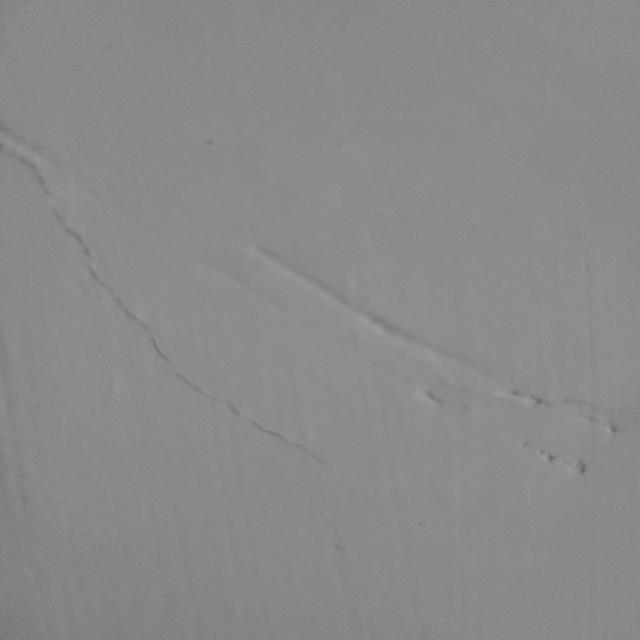rough and patchy surface: (9, 152, 633, 501)
